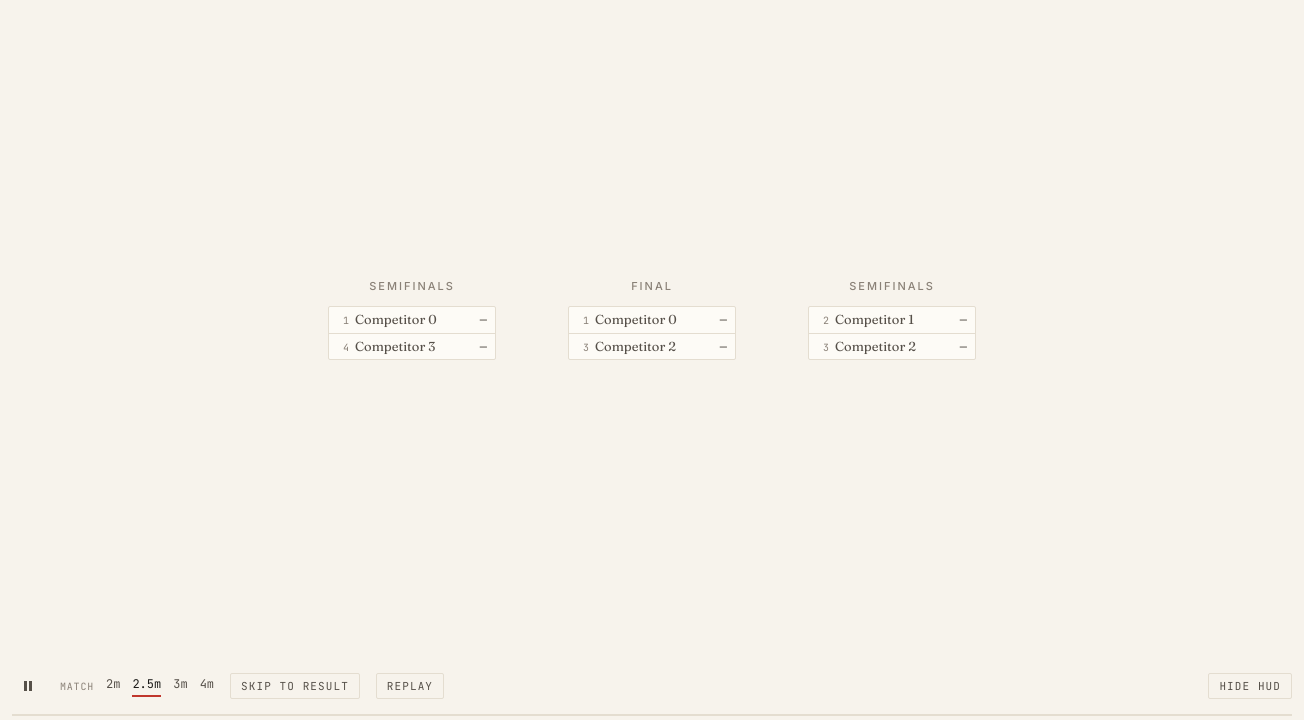
TournamentArena champion card › dismisses the overlay on close, revealing the bracket, and can be reopened
Click the button "Skip to result" at (295, 686), box top-left (230, 673), bottom-right (360, 699)
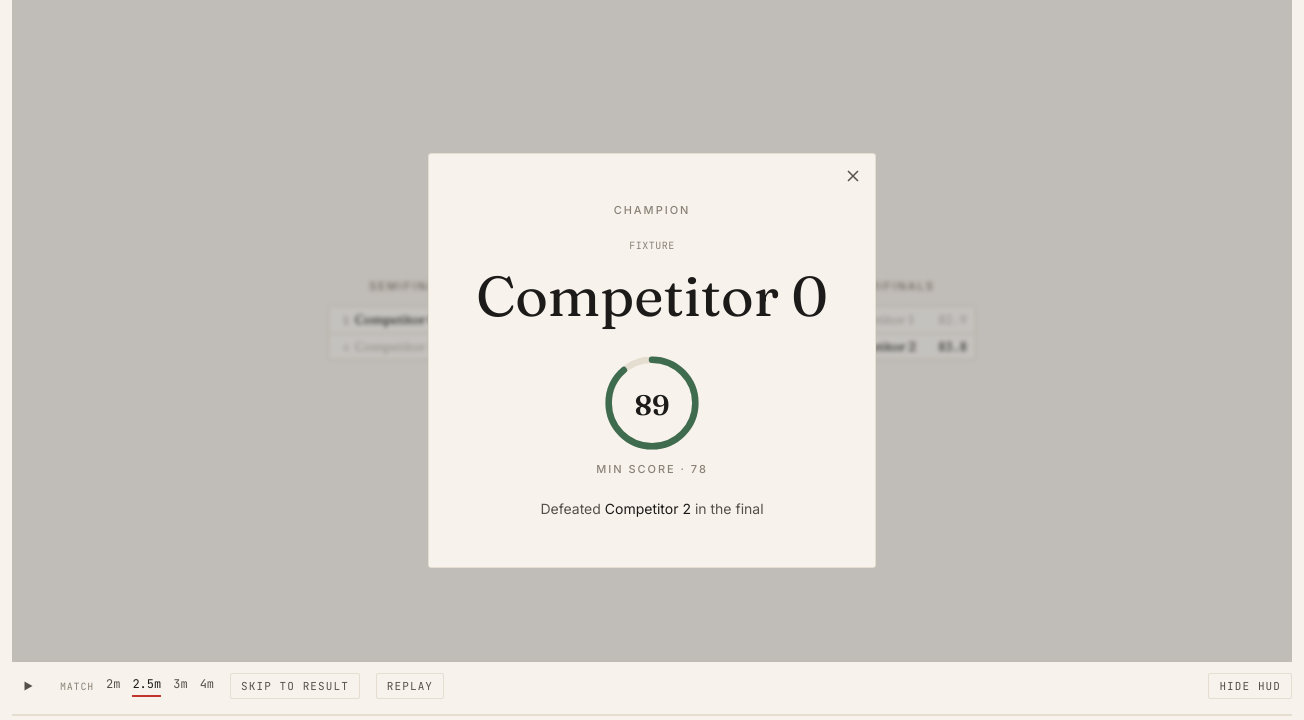
Click the button named "close champion card" at (853, 176), box top-left (839, 162), bottom-right (867, 190)
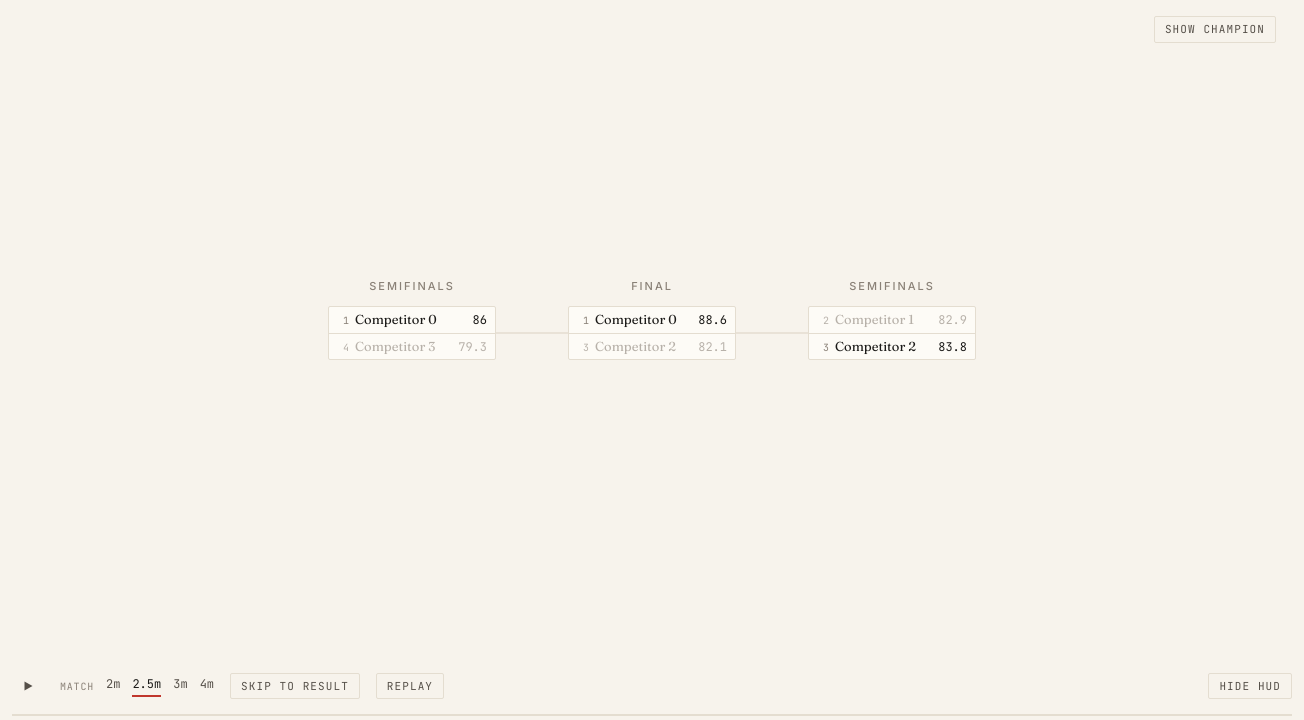
Expected: the element with test id "champion-overlay" is gone
Expected: the button with aria-label "show champion card" is shown
Click the button with aria-label "show champion card" at (1215, 29), box top-left (1154, 16), bottom-right (1276, 42)
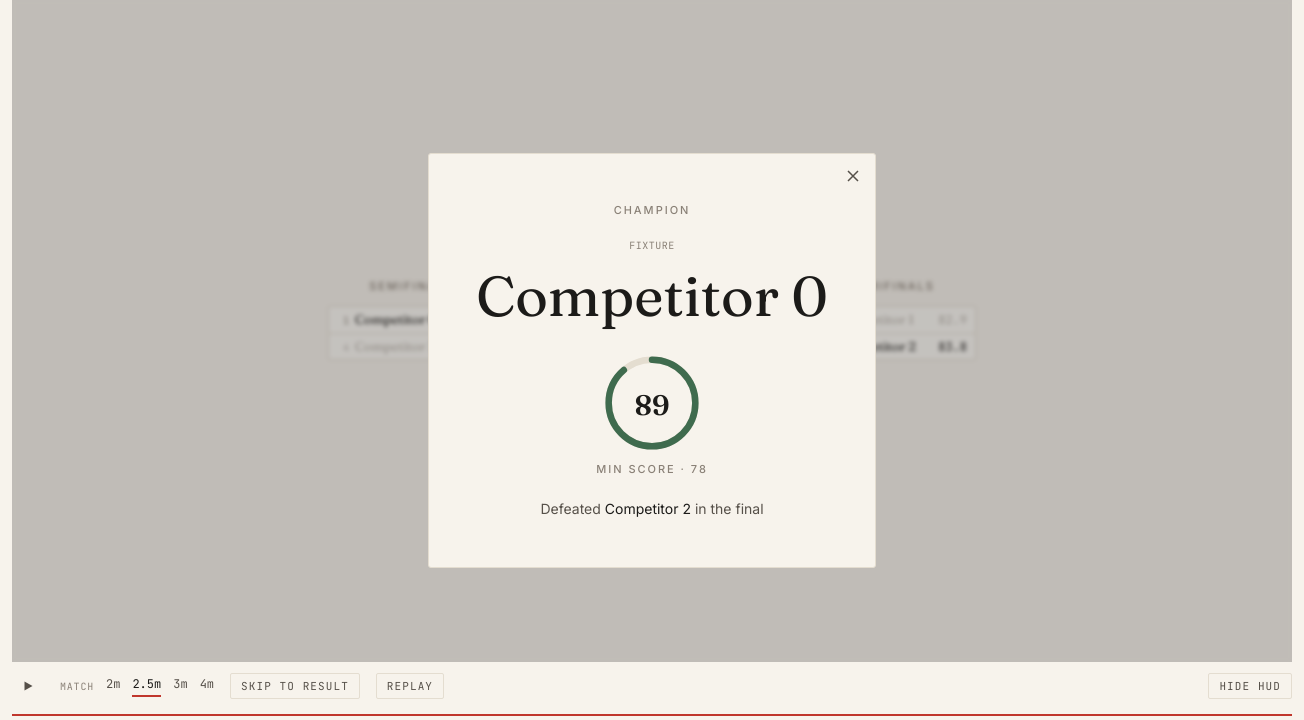
Expected: the element with test id "champion-overlay" is shown
